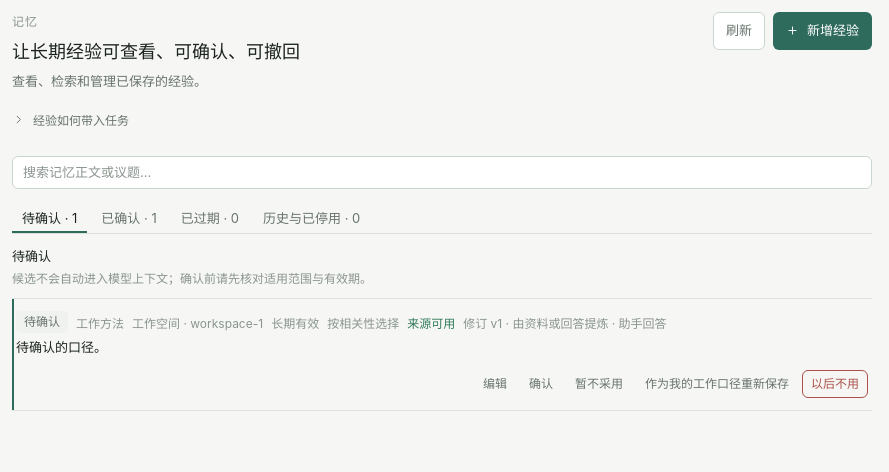
Test: 记忆页检索与分组（滚动区改造） › 页签一次只渲染一组，默认落在第一组有记录的页签
Expected: the element named "记忆分组" is shown, [12,201,872,234]
Expected: the text "待确认的口径。" is shown, [16,339,107,355]
Click the tab "已确认 · 1" at [129, 217], box [91,201,167,233]
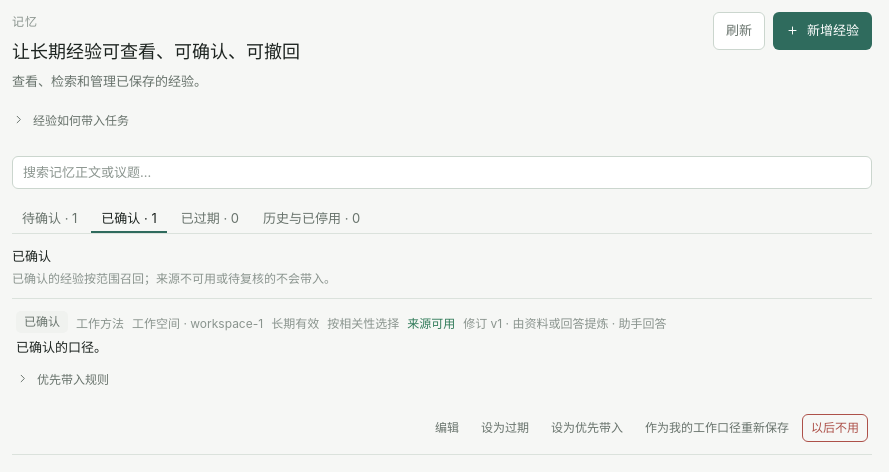
Expected: the text "已确认的口径。" is shown, [16,339,107,355]
Expected: the text "待确认的口径。" is gone
